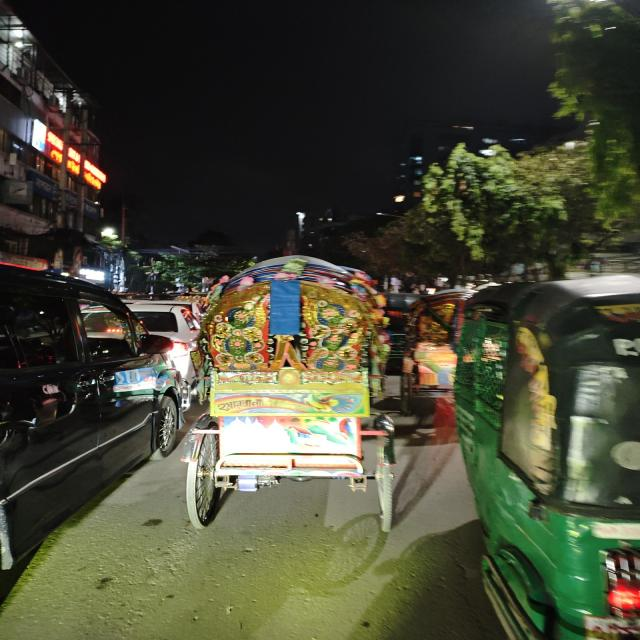car: (0, 261, 183, 499)
cng: (440, 270, 640, 640)
rickshaw: (179, 254, 401, 533)
